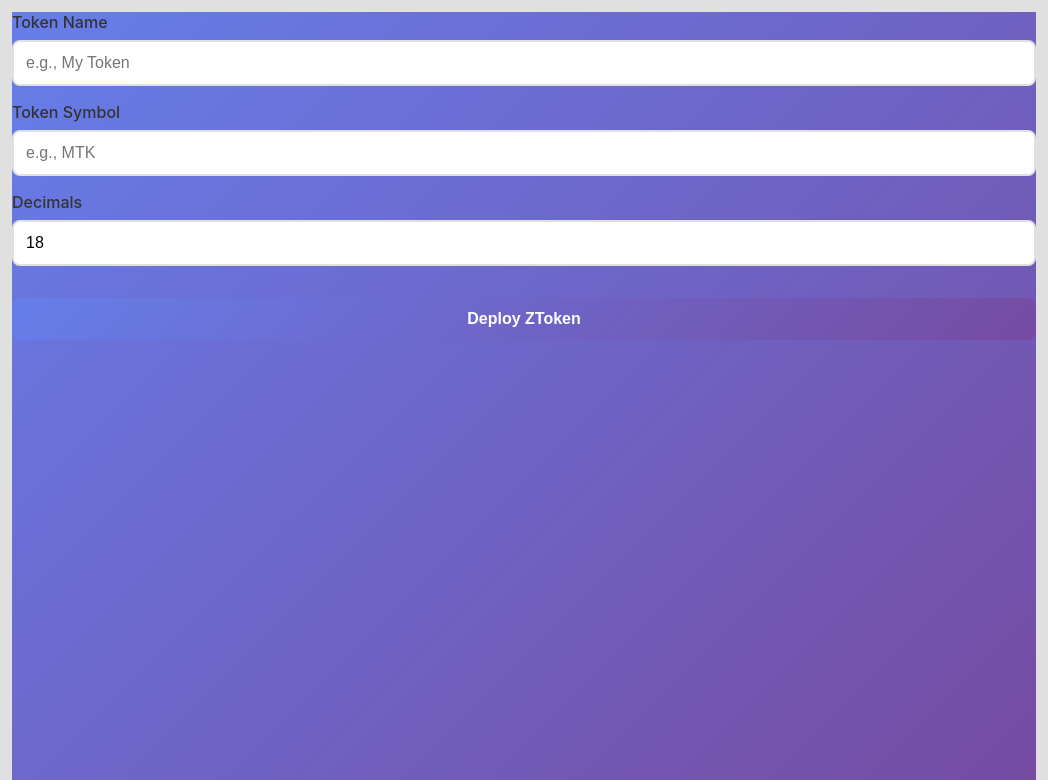
it: CreateZToken › should show error when fields are empty
This screenshot has width=1048, height=780.
Step 1. Click the button "Deploy ZToken" → click(524, 319), box [12, 298, 1036, 340]
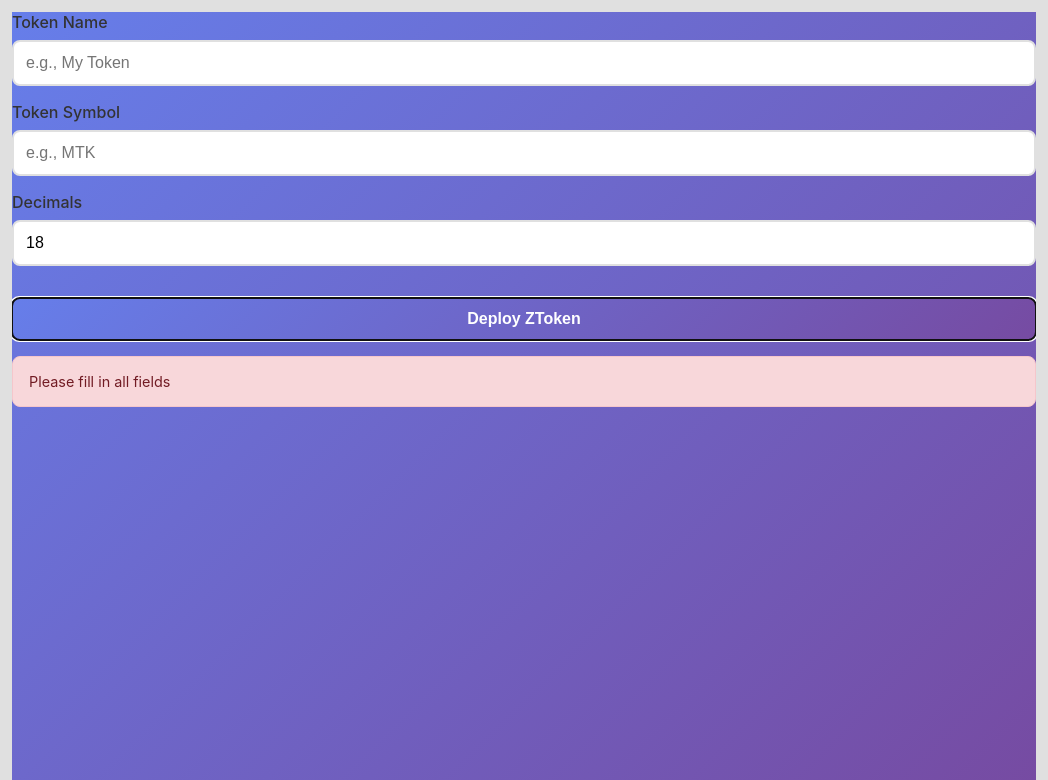
Result: the text "Please fill in all fields" is shown at [12, 356, 1036, 407]
